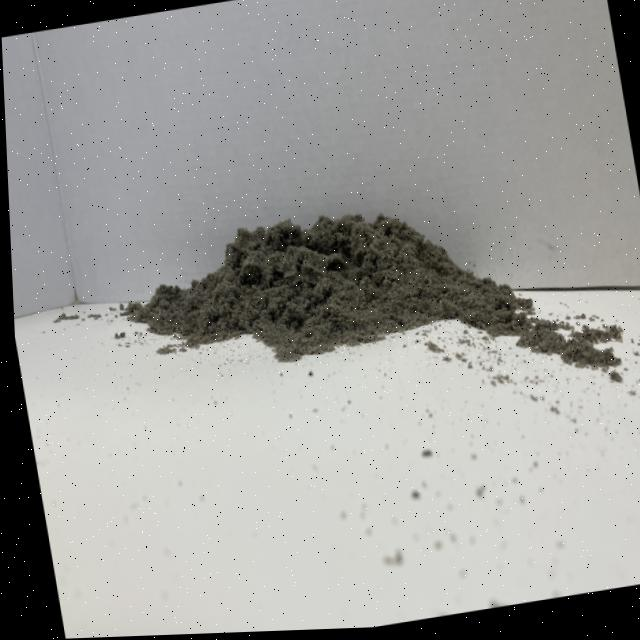sand: (89, 160, 543, 403)
